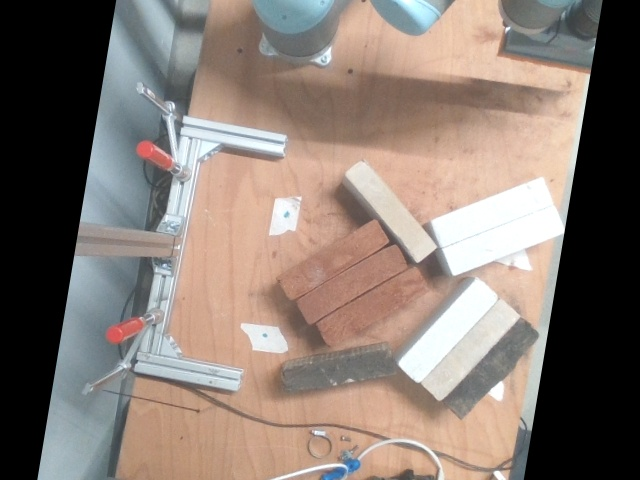brick-side: (423, 300, 518, 401), (401, 282, 496, 382), (445, 320, 538, 417), (297, 243, 407, 323), (317, 267, 427, 347), (278, 220, 389, 299), (347, 159, 434, 258), (436, 181, 550, 245), (448, 207, 562, 271), (284, 355, 392, 394)
